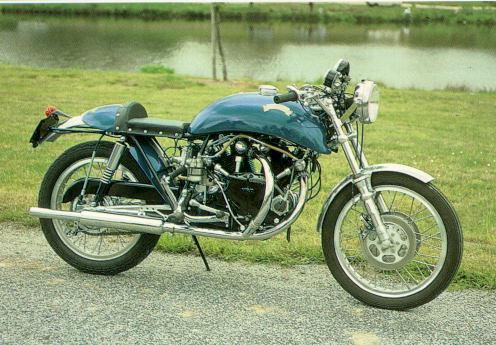motorcycle: (16, 47, 484, 322)
